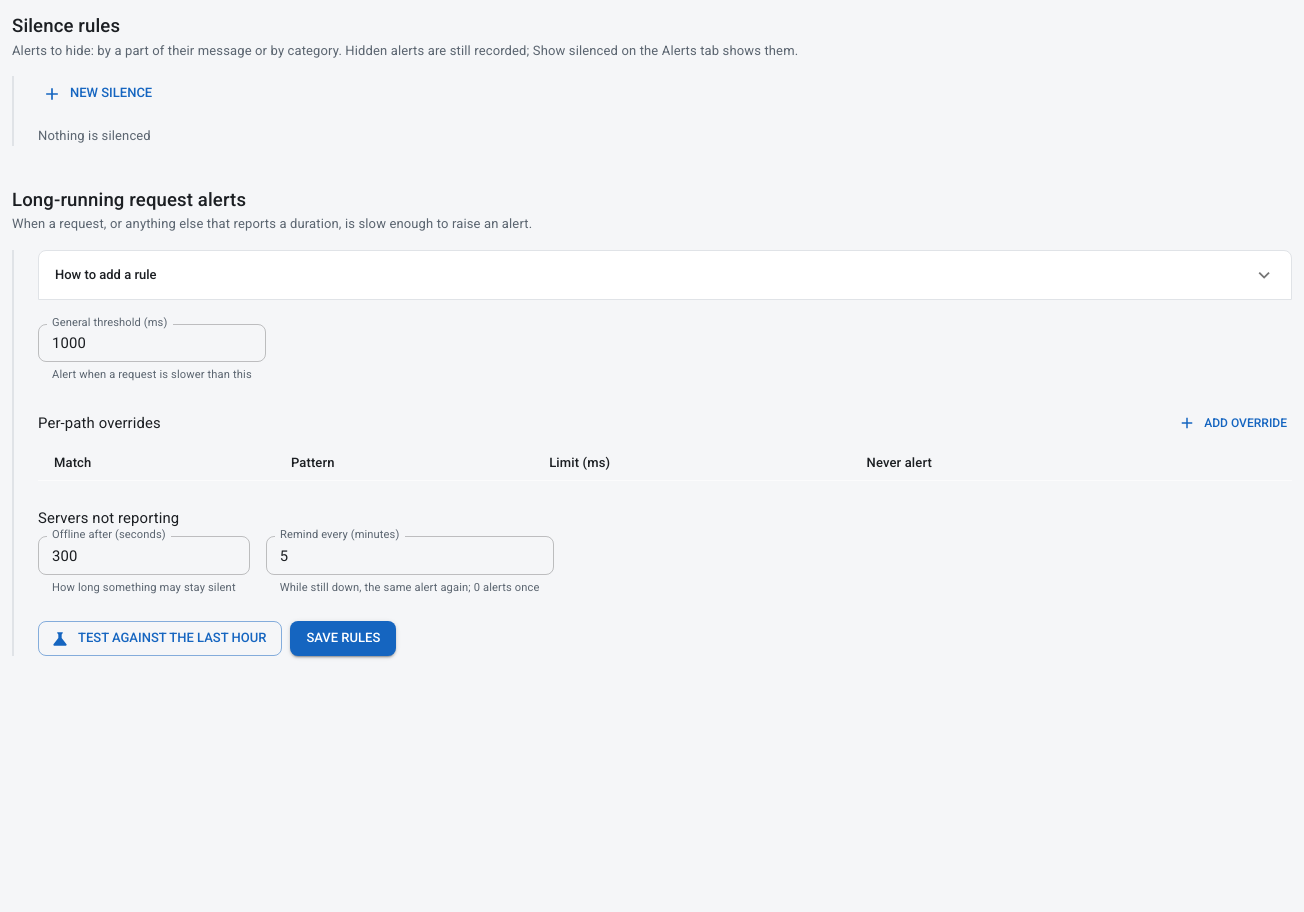
Test: RulesPanel › reports a test with nothing to test instead of failing
This screenshot has width=1304, height=912.
Click the button "Test against the last hour" at x=160, y=639, box [38,621,282,656]
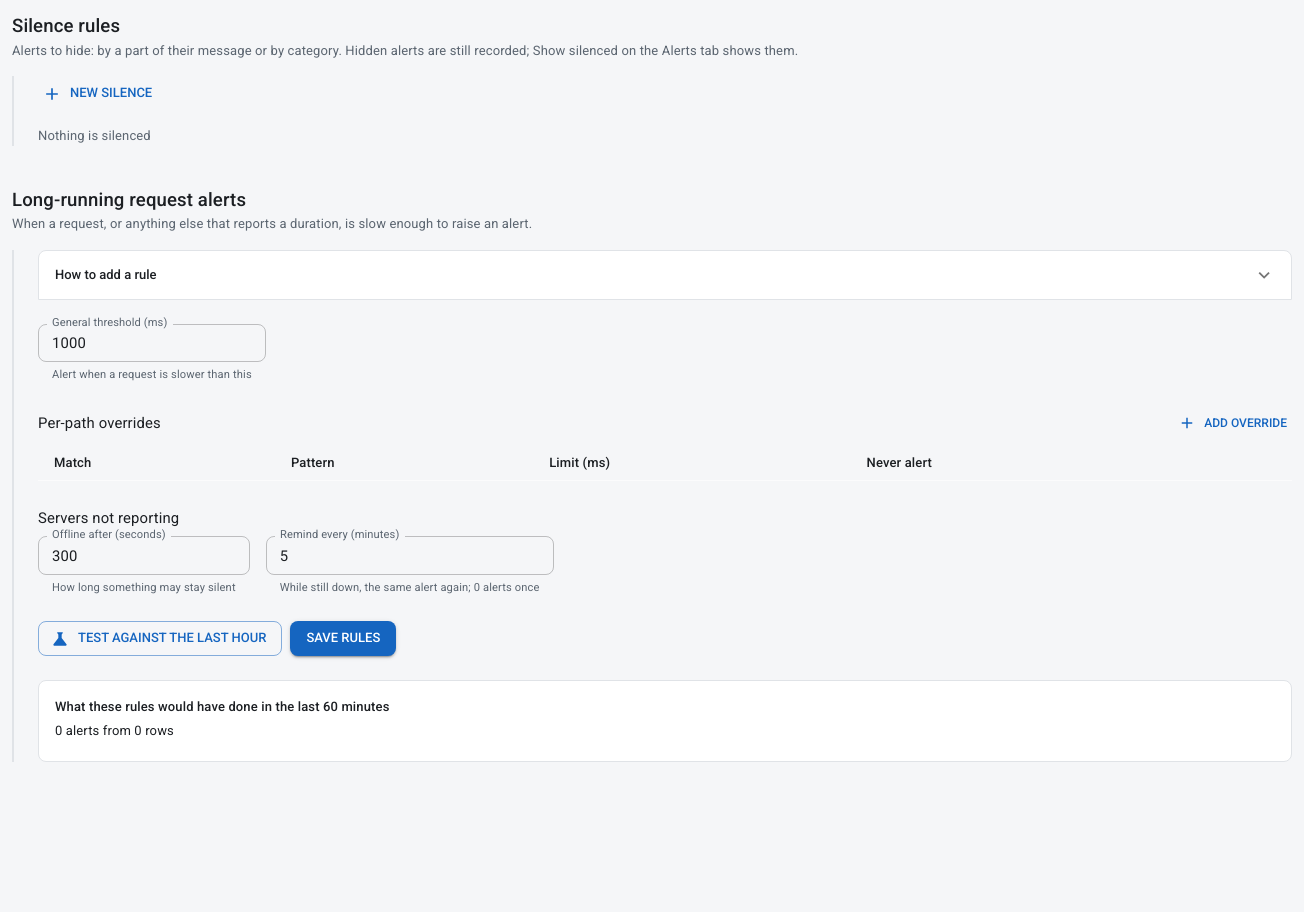
expect the text "0 alerts from 0 rows" is shown: met, box [55,723,174,738]
